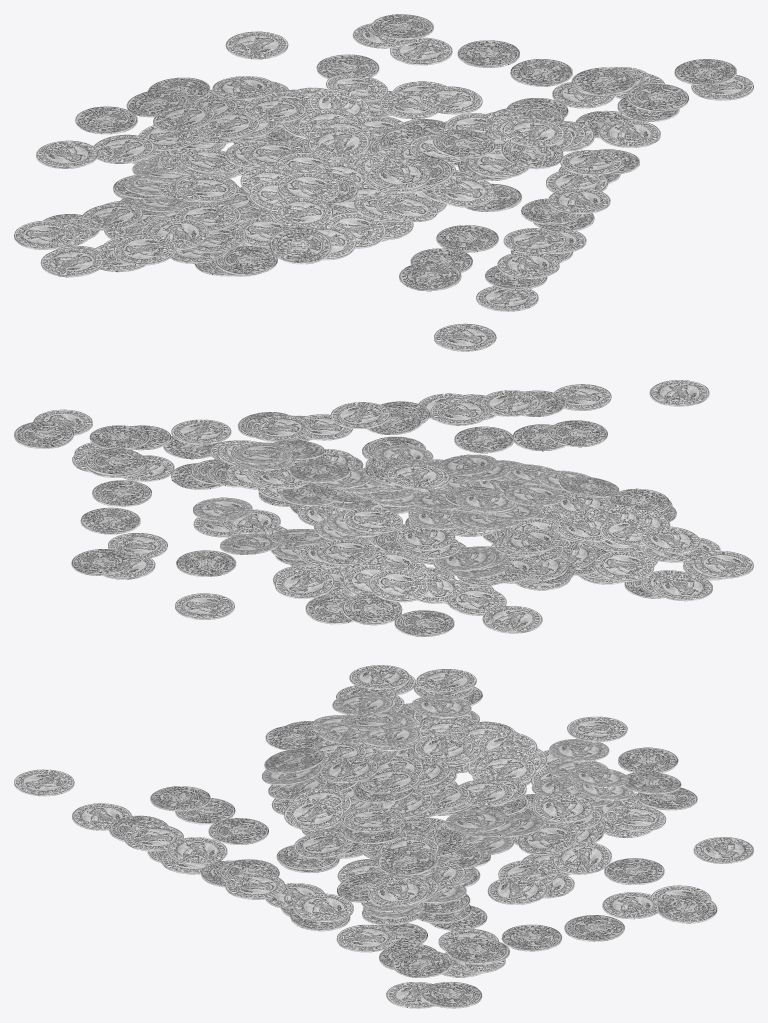
Rendered from silverCoin.obj.
3 renders of one model, top to bottom at view 1: azimuth 30°, elevation 25°; view 2: azimuth 150°, elevation 25°; view 3: azimuth 270°, elevation 25°, orthographic. The views are drawn at different scales.
Parts seen in each view (by area): view 1: Coin001LP_inst000_1_0; view 2: Coin001LP_inst000_1_0; view 3: Coin001LP_inst000_1_0.
Boxes of the visible parts, x1,y1,x2,y2 form: Coin001LP_inst000_1_0: (14,14,753,351); Coin001LP_inst000_1_0: (14,380,753,636); Coin001LP_inst000_1_0: (14,665,753,1008).
Size of the model in its own units: 0.4011 by 0.0094 by 0.3665.
1 material, 1 textured.
